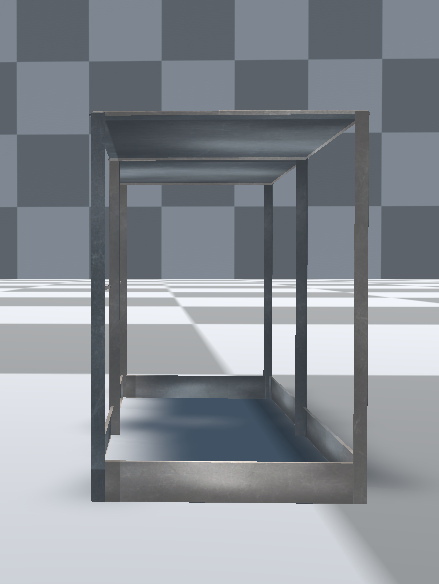Rack: (87, 102, 371, 508)
